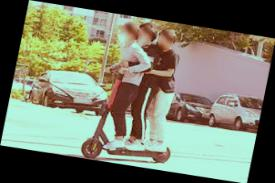multiple: (78, 15, 195, 171)
